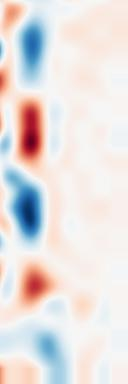filament: (11, 96, 54, 171), (16, 253, 57, 314)
